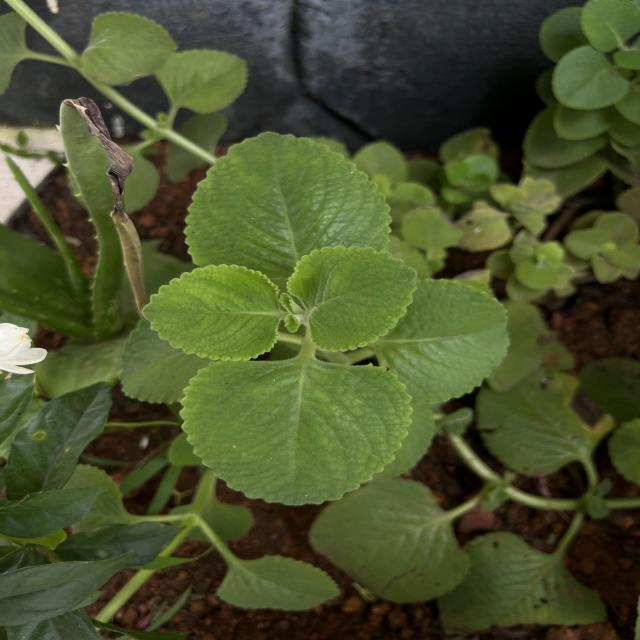Plectranthus barbatus: (177, 359, 416, 507), (181, 129, 395, 268), (306, 477, 473, 604), (372, 278, 512, 406), (285, 244, 419, 353), (140, 262, 284, 363), (78, 10, 179, 88), (215, 554, 342, 612), (160, 47, 250, 116)
